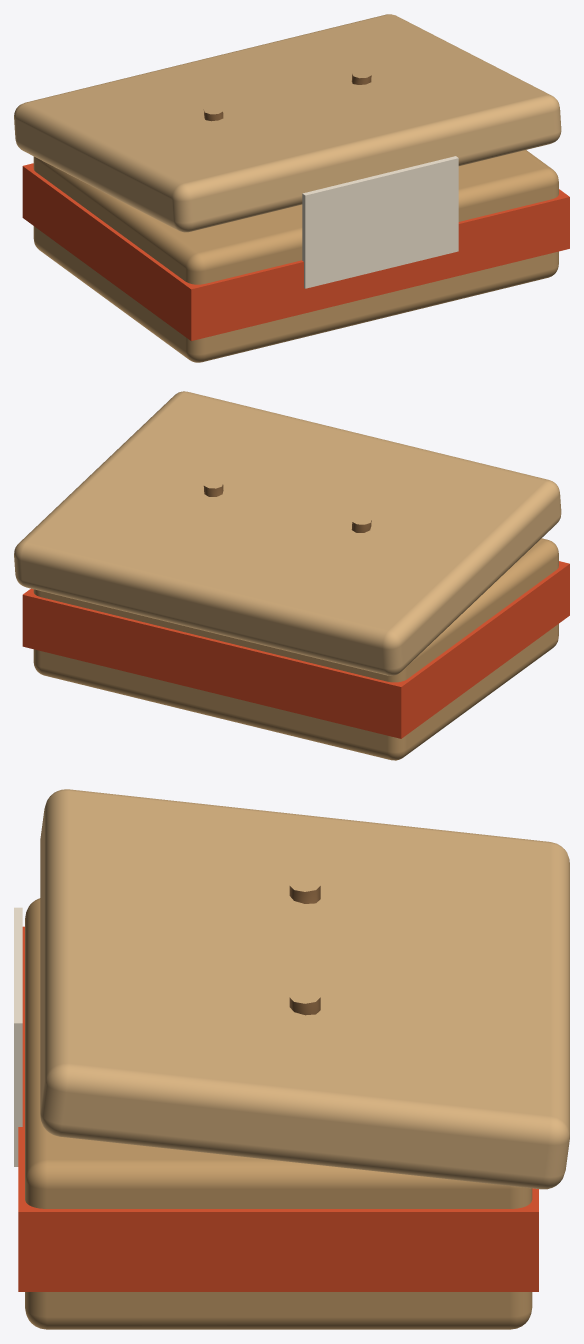
The picture shows the model from 3 angles, top to bottom: view 1: azimuth 30°, elevation 25°; view 2: azimuth 150°, elevation 25°; view 3: azimuth 270°, elevation 25°; orthographic projection. The views are drawn at different scales.
Parts seen in each view (by area): view 1: box; view 2: box; view 3: box.
Part boxes in pixels (bbox=[...]): box: bbox=[14, 14, 569, 362]; box: bbox=[14, 391, 569, 760]; box: bbox=[14, 789, 569, 1329].
Size of the model in its own units: 1.56 by 0.6751 by 1.26.
